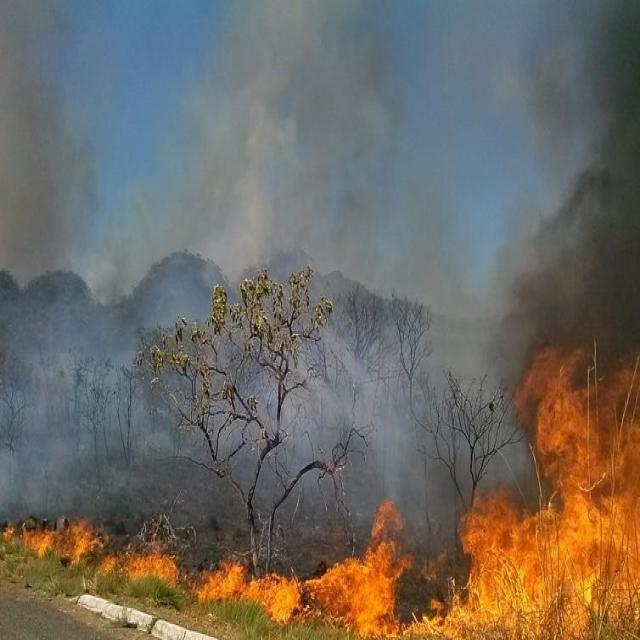Fire: (462, 345, 640, 640), (310, 500, 406, 640), (202, 558, 310, 620), (5, 515, 98, 564), (407, 576, 462, 640), (104, 545, 178, 587)
Smoke: (105, 0, 502, 290), (0, 2, 106, 511), (503, 0, 640, 341)
